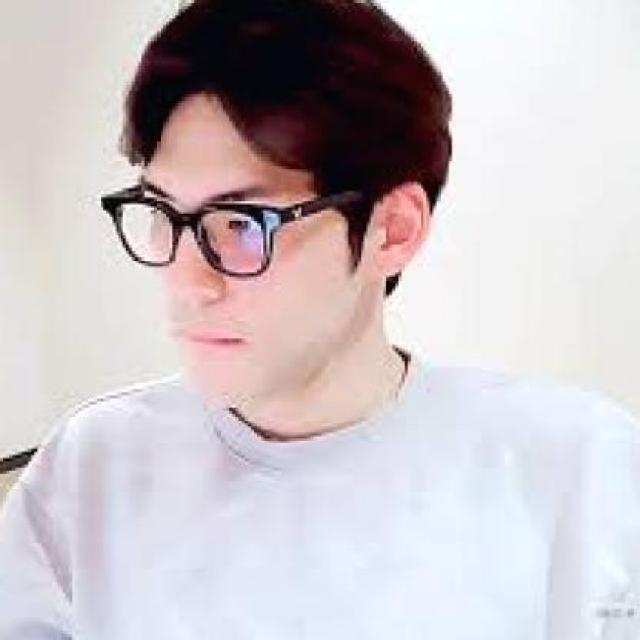mask: (97, 180, 299, 288)
